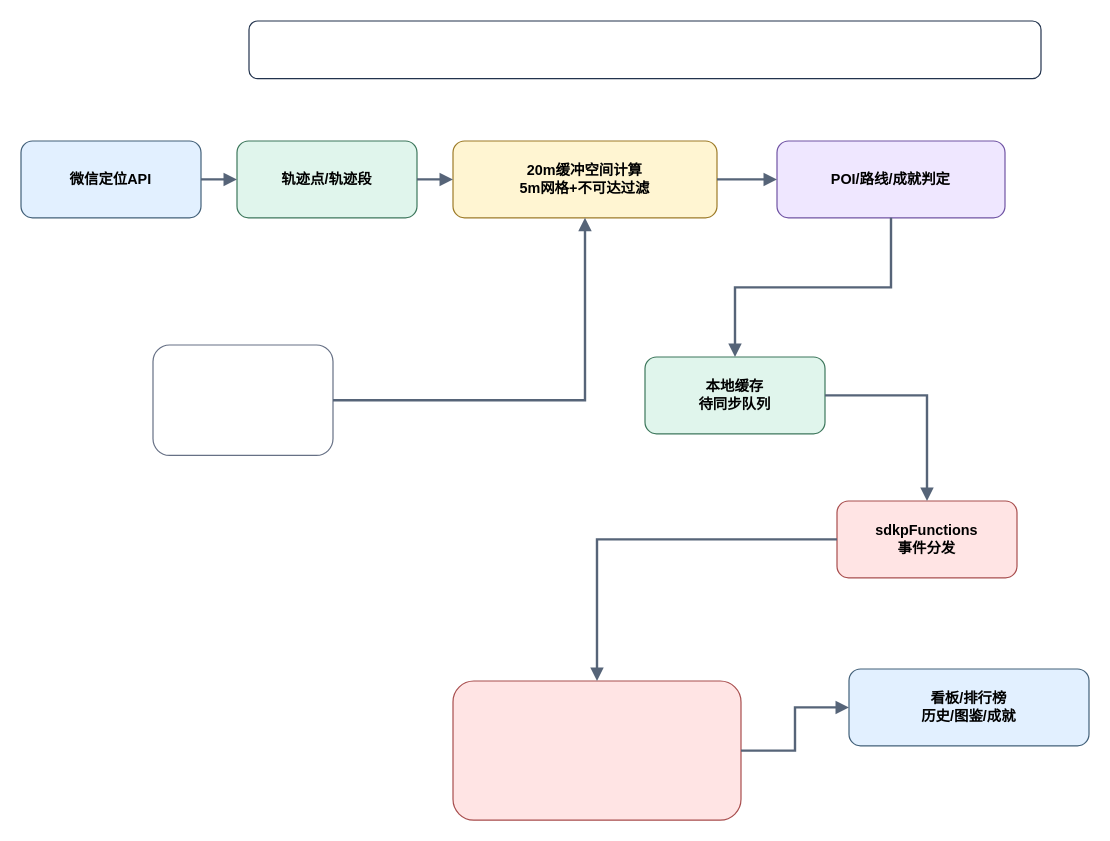
Some shapes in this 1110 by 841 pixel diagram are drawn without their labels. Each missing label, with the centre of its shape:
云集合 userinfo/gridstatus poi/route/achievement track_sessions/config: pixel 596 750
数据流程图: pixel 644 49
本地数据 campus.js game-config.js: pixel 242 399
